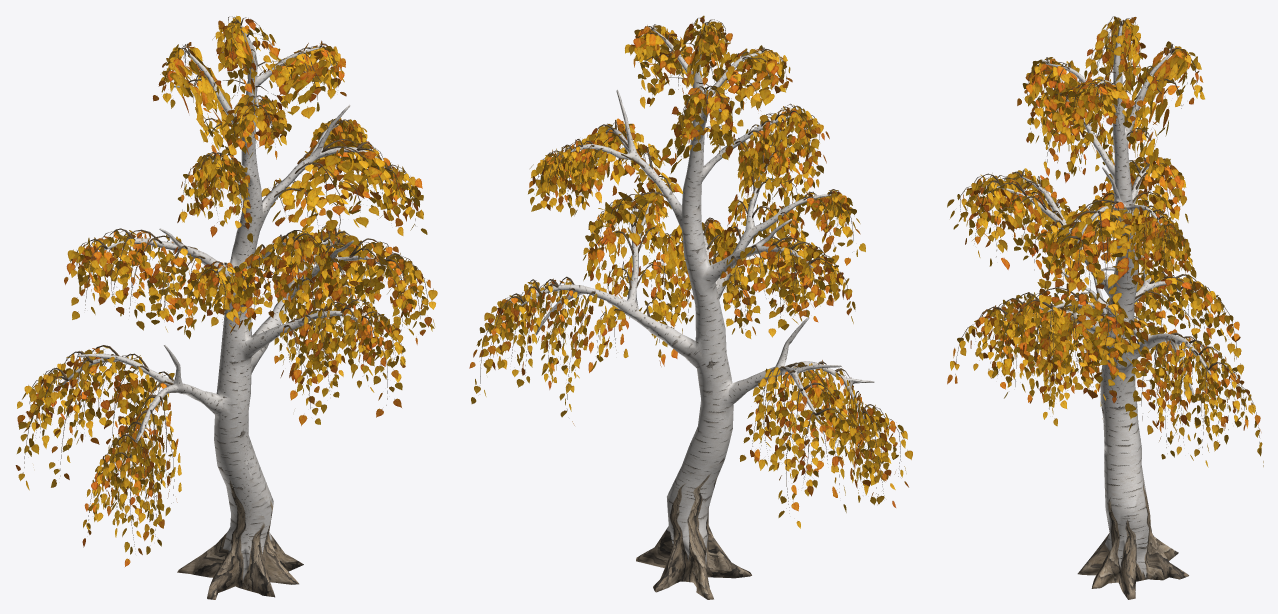
File: autumn_birch_betula_pendula.glb
3 renders of one model, left to right at view 1: azimuth 30°, elevation 25°; view 2: azimuth 150°, elevation 25°; view 3: azimuth 270°, elevation 25°, orthographic. The views are drawn at different scales.
Visible parts, largest first — view 1: Autumn leaf cards, Watertight low-poly birch trunk, Simplified twigs and petioles; view 2: Autumn leaf cards, Watertight low-poly birch trunk, Simplified twigs and petioles; view 3: Autumn leaf cards, Watertight low-poly birch trunk, Simplified twigs and petioles.
Part boxes in pixels (x1,y1,x2,y2): Autumn leaf cards: (15,16,437,566); Watertight low-poly birch trunk: (62,25,386,599); Simplified twigs and petioles: (23,16,427,546); Autumn leaf cards: (469,15,912,528); Watertight low-poly birch trunk: (520,22,874,599); Simplified twigs and petioles: (480,18,901,513); Autumn leaf cards: (947,16,1263,467); Watertight low-poly birch trunk: (997,21,1211,599); Simplified twigs and petioles: (955,16,1259,454).
Bounding box in the file's own units: 7.6 × 10.61 × 5.59.
3 materials, 2 textured.
